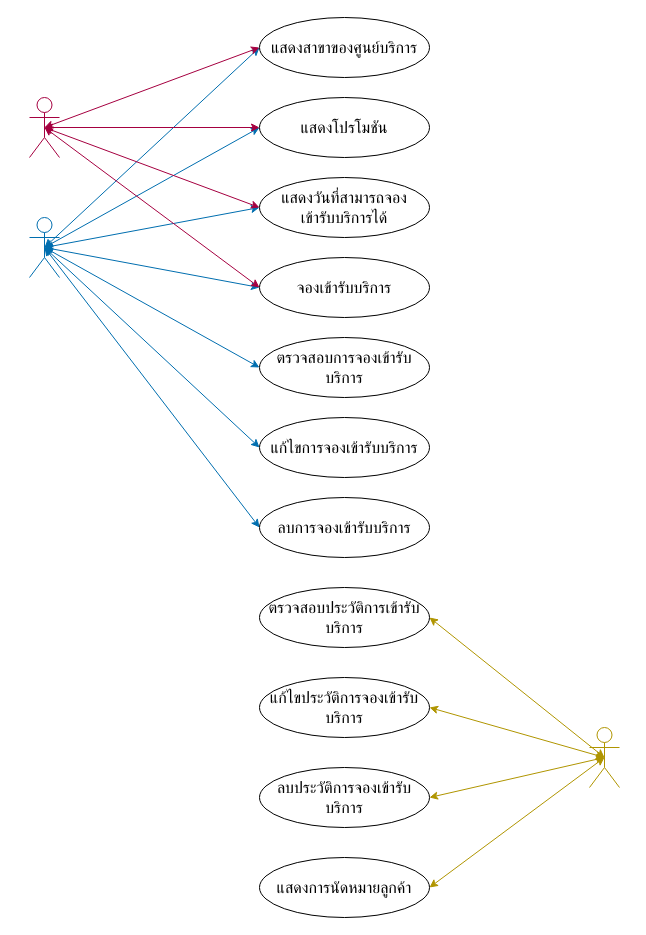
This 646x935 diagram has some shape labels left out. The shapes that lost their labels are listed below. From the top down, each one's centre as x and y in pixels, then its label:
At point 44,127: "ผู้เยี่ยมชม".
At point 44,247: "ลูกค้า".
At point 604,757: "พนักงาน".
